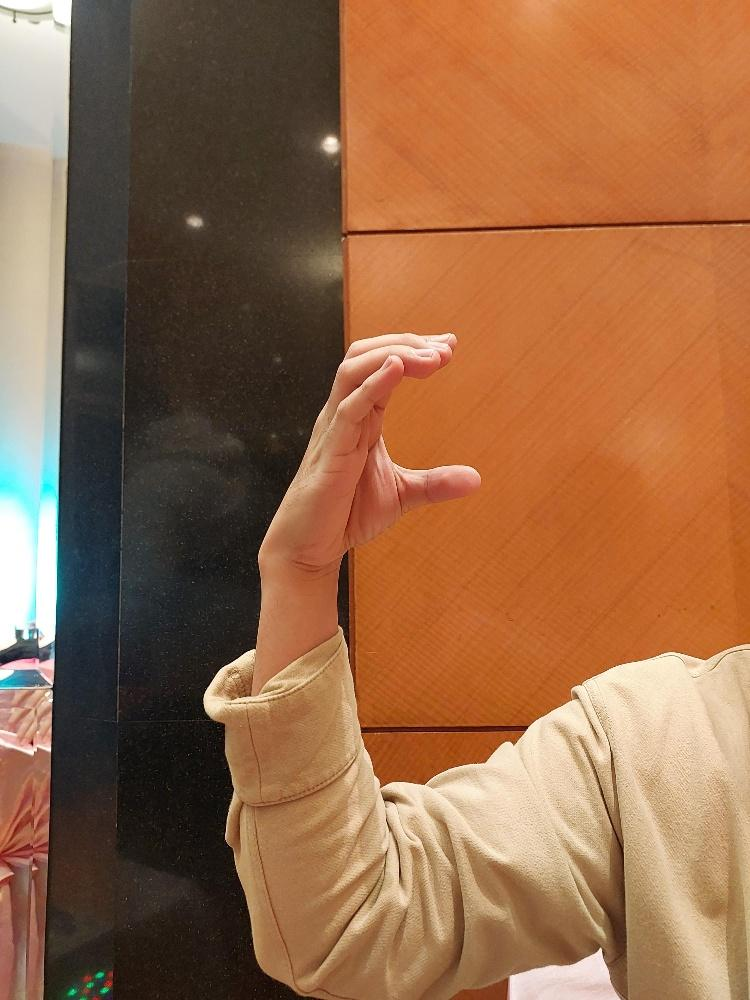c: (277, 328, 481, 573)
